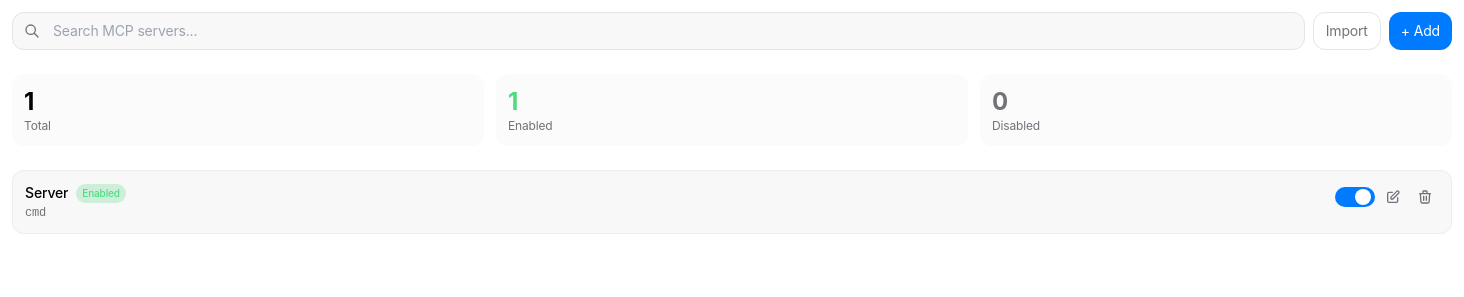
it: McpServerSettings › shows no match message when search has no results
This screenshot has width=1464, height=297.
In the field with placeholder "Search MCP servers...": (658, 31) [12,12,1305,50], type "nonexistent"
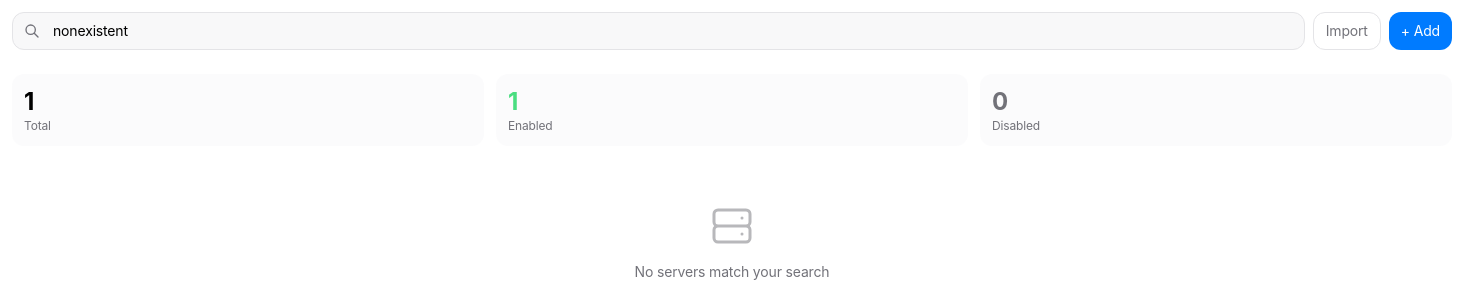
Result: the text "No servers match your search" is shown at [634,263,829,280]
